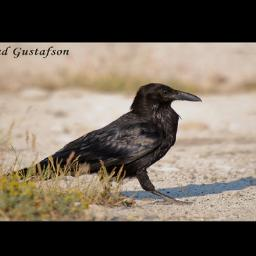Crow: (0, 82, 203, 207)
